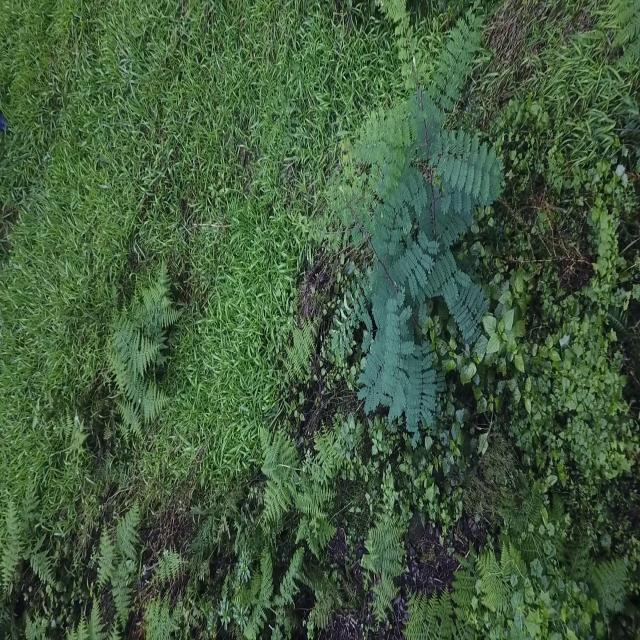Mysore-Thorn-Weed: (323, 0, 510, 455)
